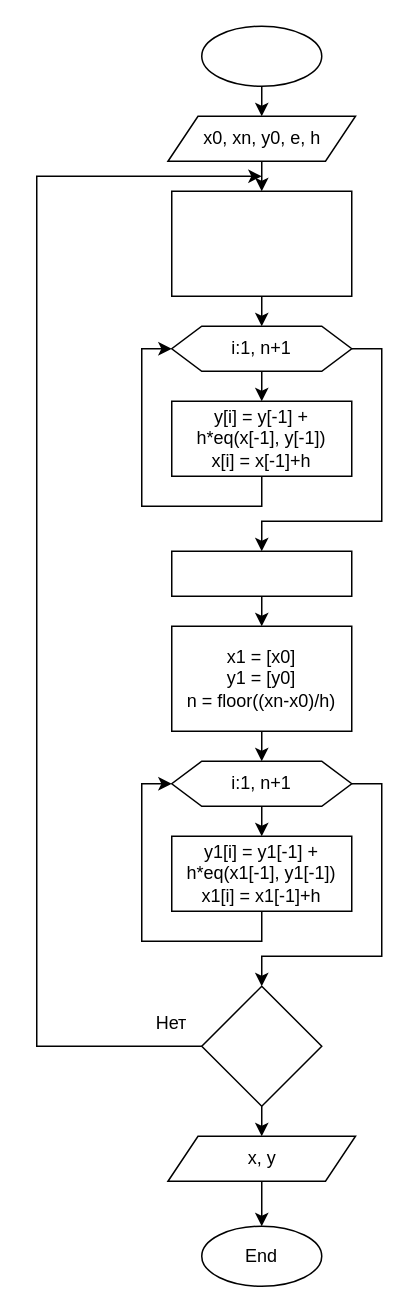
The diagram is 420 pixels wide and 1313 high, and some of its shapes have lost their labels. The centre of each missing label's shape, as x and y in pixels:
"h /= 2" goes at (261,573).
"Start" goes at (261,55).
"x = [x0] y = [y0] n = floor((xn-x0)/h)" goes at (261,243).
"|y[1] - y1[1]| <= e" goes at (261,1045).
